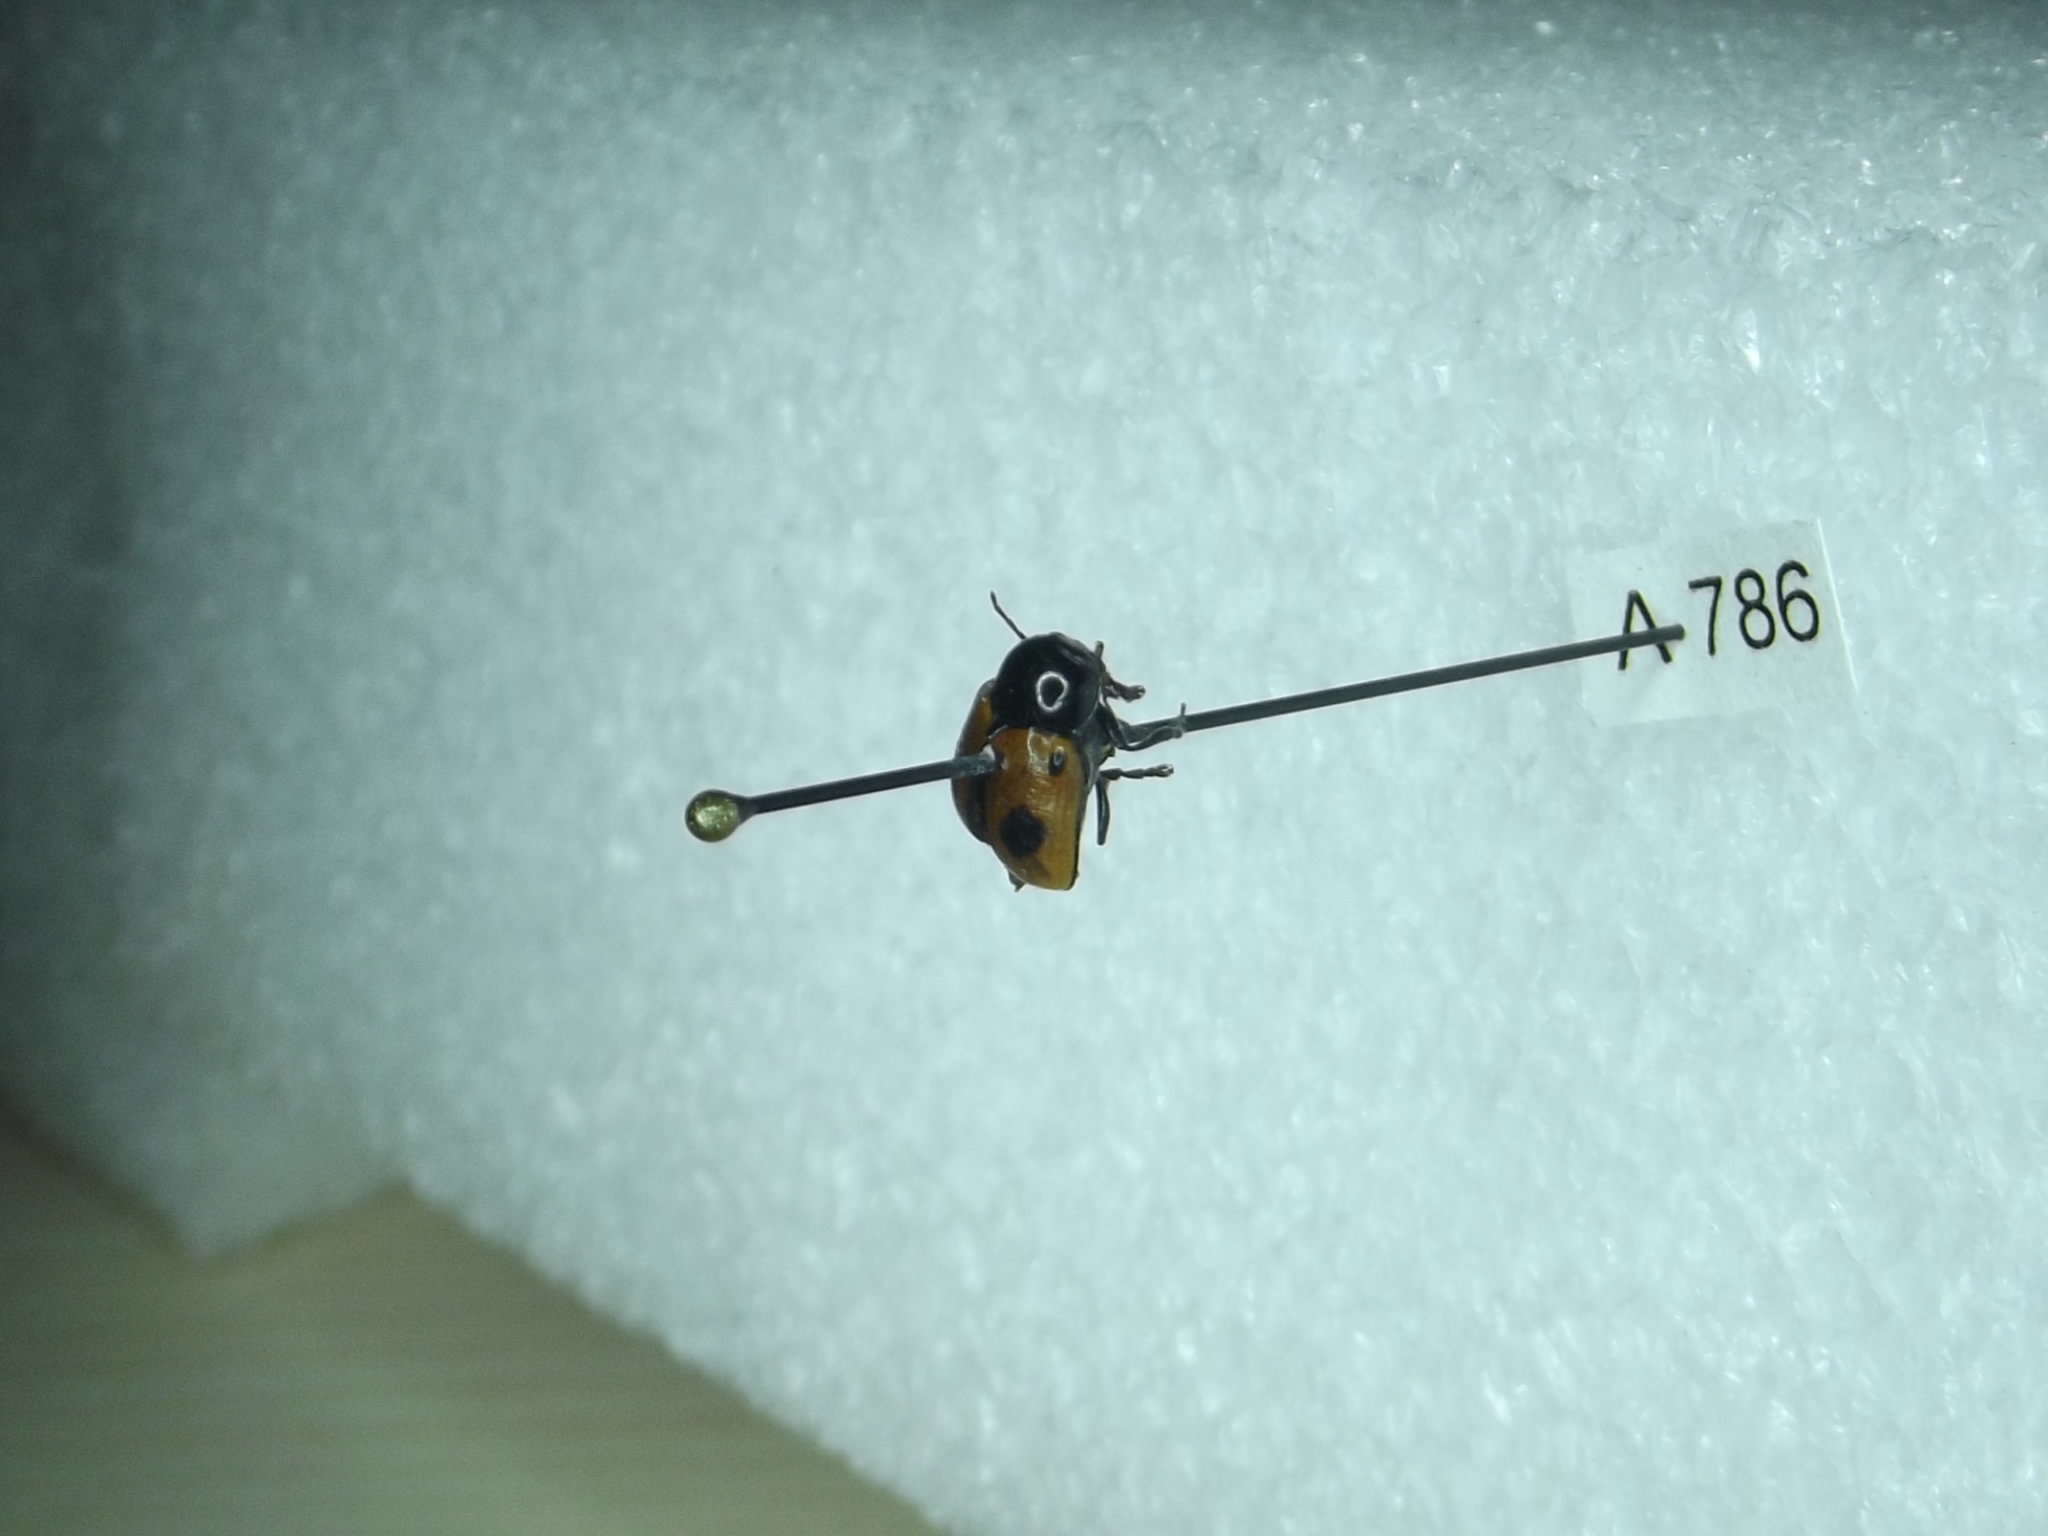Cryptocephalus_bipunctatus: (951, 579, 1197, 908)
